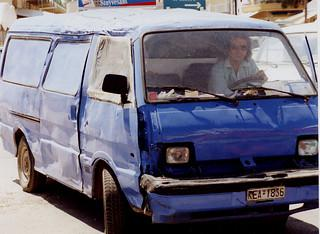doorouter-dent: (83, 99, 139, 174), (40, 95, 81, 177)
roof-dent: (25, 5, 193, 32)
